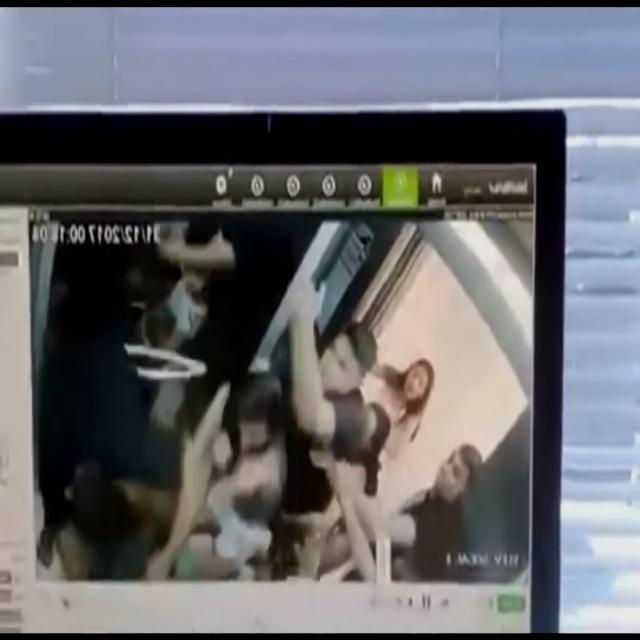fight: (39, 242, 377, 583)
